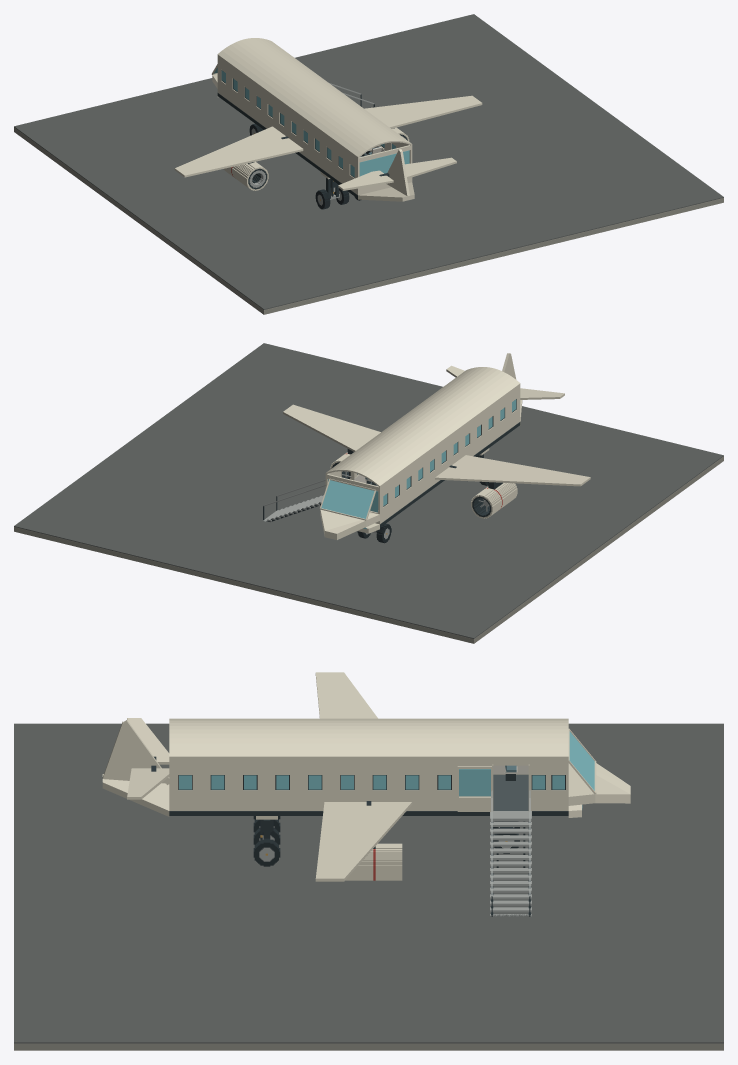
3 renders of one model, top to bottom at view 1: azimuth 30°, elevation 25°; view 2: azimuth 150°, elevation 25°; view 3: azimuth 270°, elevation 25°, orthographic. The views are drawn at different scales.
Visible parts, largest first — view 1: 石铺面与混凝土承板, 独立乘舱壳、真实窗封和常开侧舱口, 连续后掠翼及薄翼缘 (×2), 连续收尖机鼻、尾锥和实体垂尾, 公共客机发动机/推力体组件, 公共客机起落架与轮组; view 2: 石铺面与混凝土承板, 独立乘舱壳、真实窗封和常开侧舱口, 连续后掠翼及薄翼缘 (×2), 连续收尖机鼻、尾锥和实体垂尾, 公共客机发动机/推力体组件, 可登离实体踏步与连续金属梯梁; view 3: 石铺面与混凝土承板, 独立乘舱壳、真实窗封和常开侧舱口, 连续后掠翼及薄翼缘 (×2), 连续收尖机鼻、尾锥和实体垂尾, 可登离实体踏步与连续金属梯梁, 公共客机发动机/推力体组件, 公共客机起落架与轮组.
Boxes of the visible parts, x1,y1,x2,y2 form: 石铺面与混凝土承板: [14, 14, 723, 314]; 独立乘舱壳、真实窗封和常开侧舱口: [217, 38, 412, 198]; 连续后掠翼及薄翼缘 (×2): [174, 95, 482, 190]; 连续收尖机鼻、尾锥和实体垂尾: [211, 64, 414, 201]; 公共客机发动机/推力体组件: [223, 161, 268, 190]; 公共客机起落架与轮组: [315, 172, 349, 209]; 石铺面与混凝土承板: [14, 343, 723, 643]; 独立乘舱壳、真实窗封和常开侧舱口: [325, 367, 520, 527]; 连续后掠翼及薄翼缘 (×2): [283, 365, 590, 486]; 连续收尖机鼻、尾锥和实体垂尾: [320, 353, 522, 539]; 公共客机发动机/推力体组件: [471, 482, 517, 518]; 可登离实体踏步与连续金属梯梁: [263, 474, 351, 521]; 石铺面与混凝土承板: [14, 723, 723, 1050]; 独立乘舱壳、真实窗封和常开侧舱口: [169, 718, 568, 815]; 连续后掠翼及薄翼缘 (×2): [127, 672, 412, 881]; 连续收尖机鼻、尾锥和实体垂尾: [102, 720, 630, 816]; 可登离实体踏步与连续金属梯梁: [490, 790, 531, 916]; 公共客机发动机/推力体组件: [345, 843, 402, 880]; 公共客机起落架与轮组: [253, 816, 280, 866].
Bounding box in the file's own units: 34 × 6.61 × 32.
19 materials, 19 textured.
